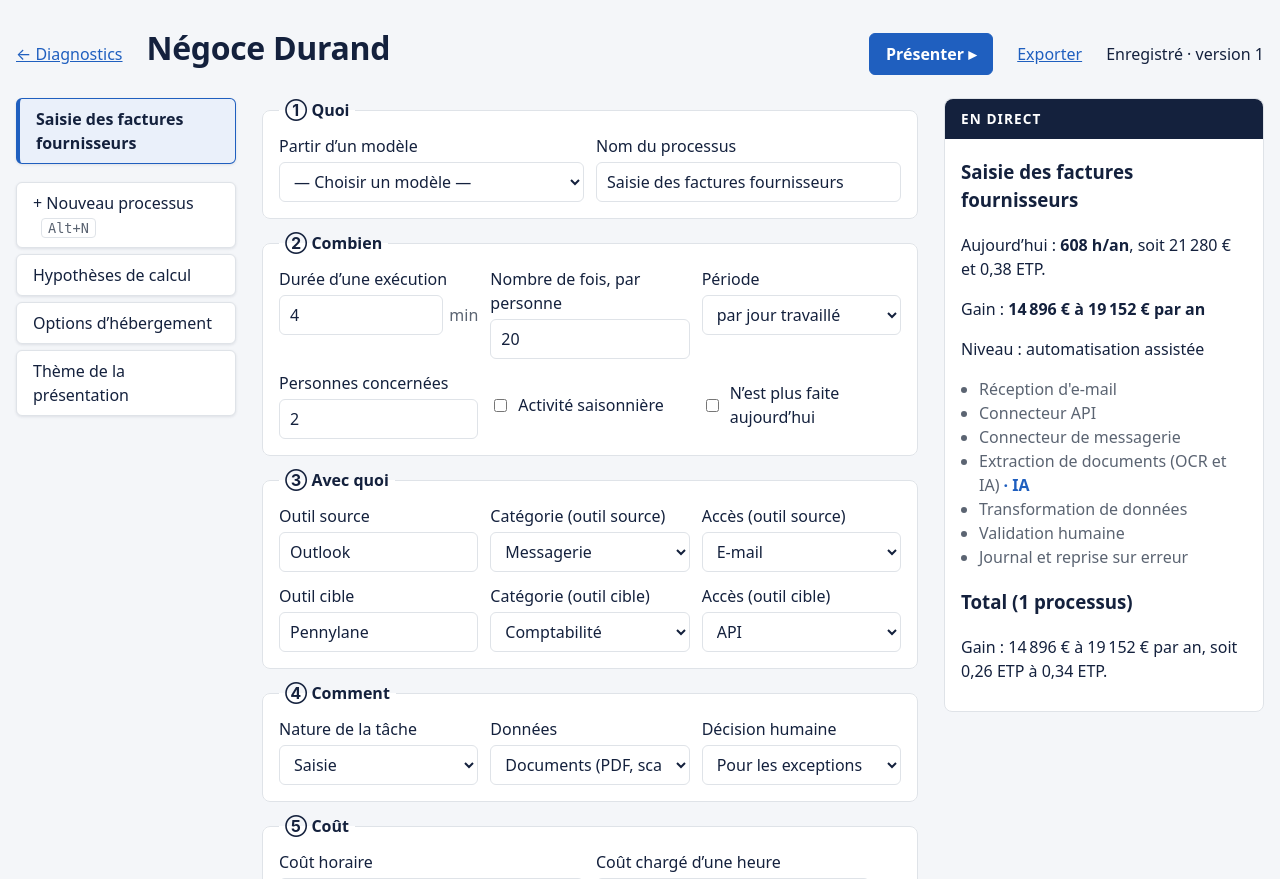
Test: Entretien › revient à une fréquence régulière avec la valeur hors saison
Check: the heading "Négoce Durand" is shown, box [146,26,390,69]
Click the checkbox labelled "Activité saisonnière": point(501, 405) [494,398,507,412]
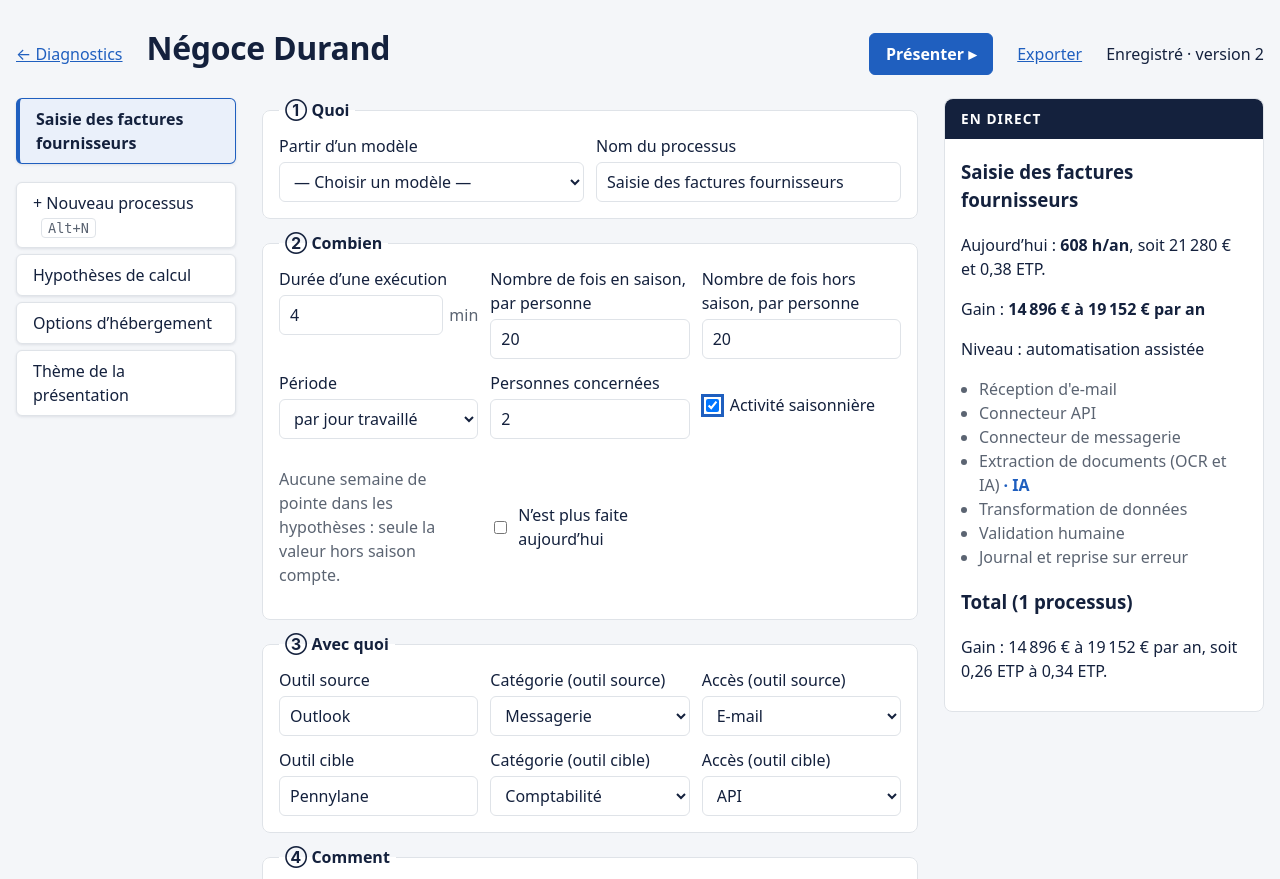
Replace the text in the field labelled "Nombre de fois hors saison, par personne" with "12": point(801, 339) [702,319,901,359]
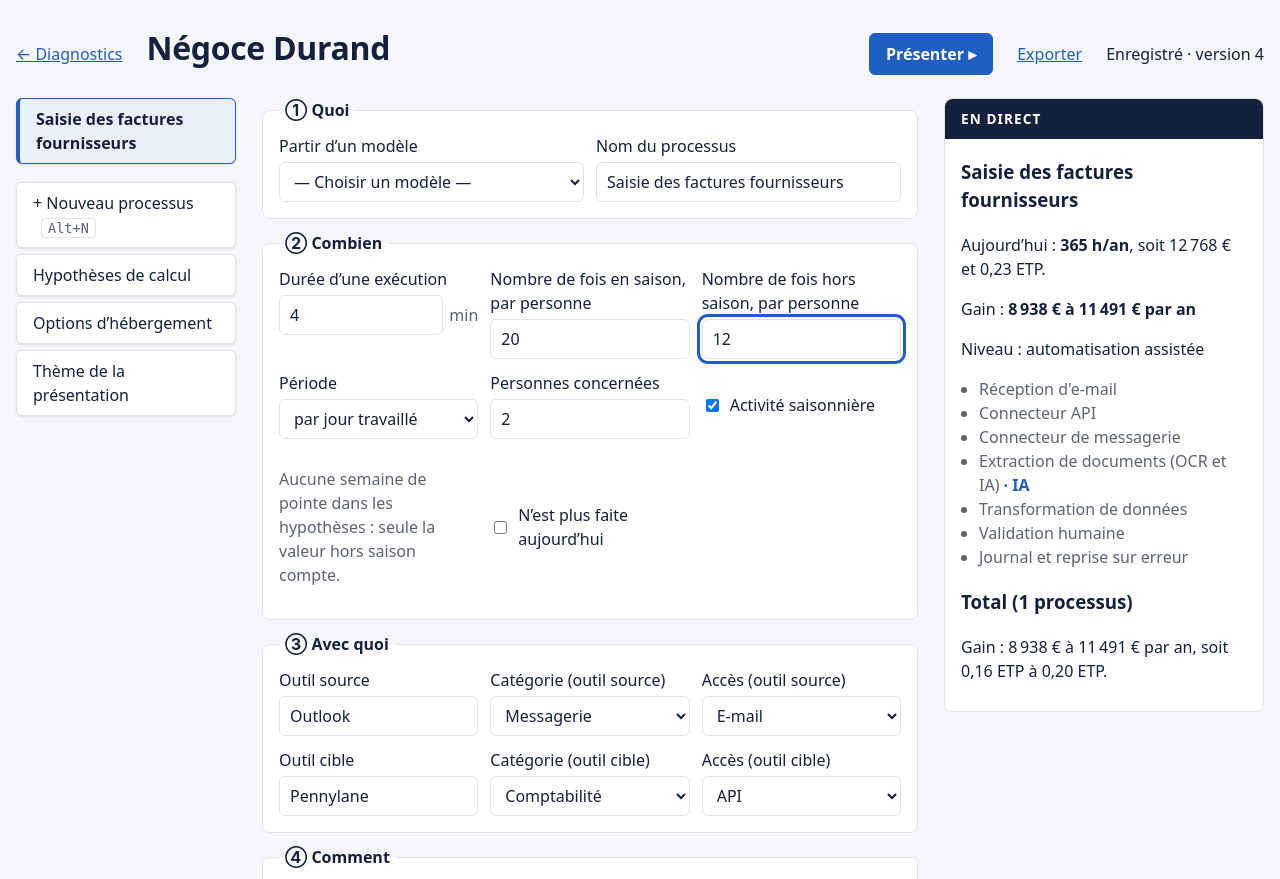
Click the checkbox labelled "Activité saisonnière": point(712, 405) [706,398,719,412]
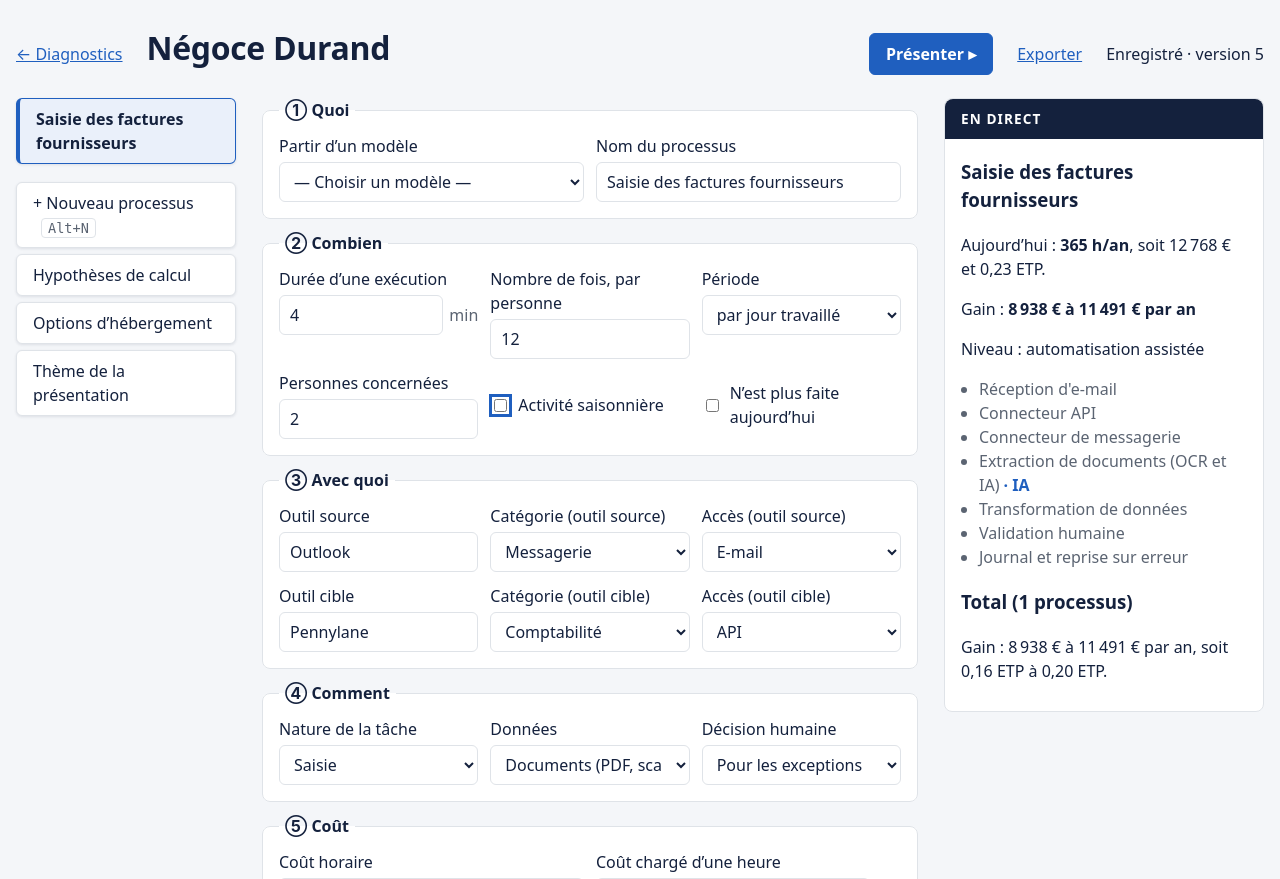
Check: the field labelled "Nombre de fois, par personne" holds "12", box [490,319,690,359]
